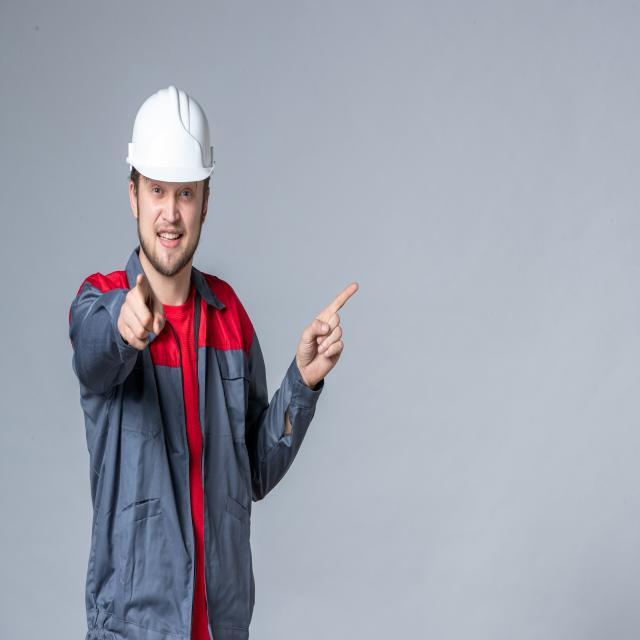helmet: (116, 94, 233, 199)
